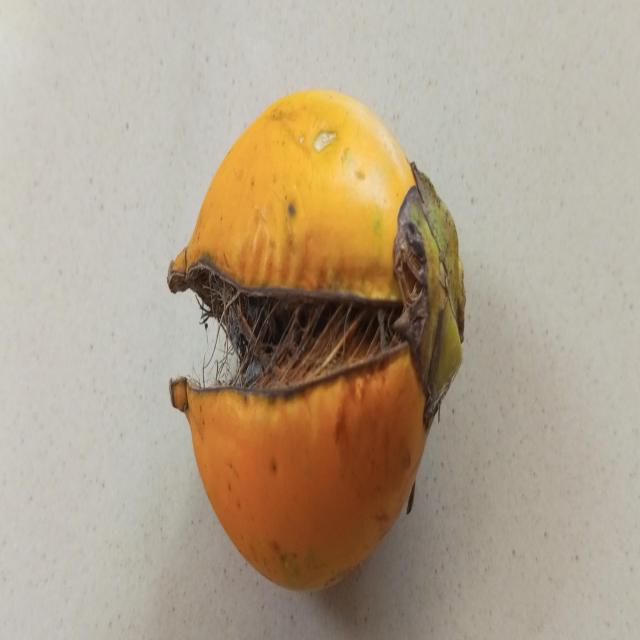damaged: (167, 90, 467, 594)
